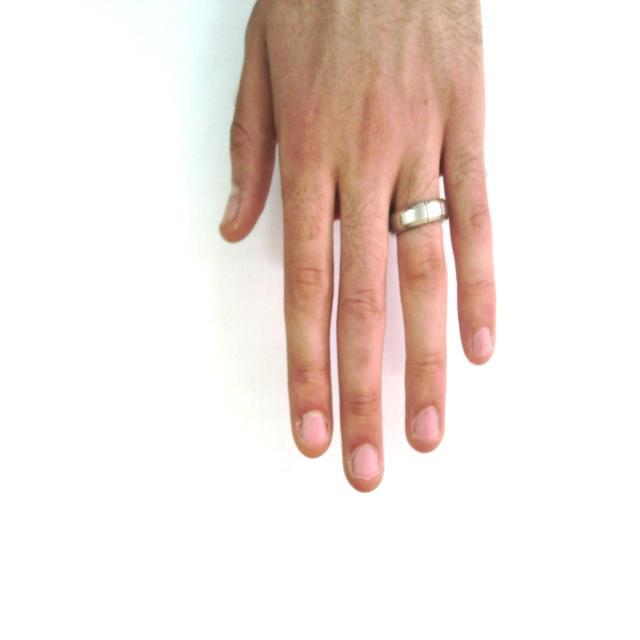Fingernail: (353, 444, 379, 478), (414, 407, 439, 442), (302, 413, 328, 446), (221, 187, 240, 225), (473, 329, 492, 360)
